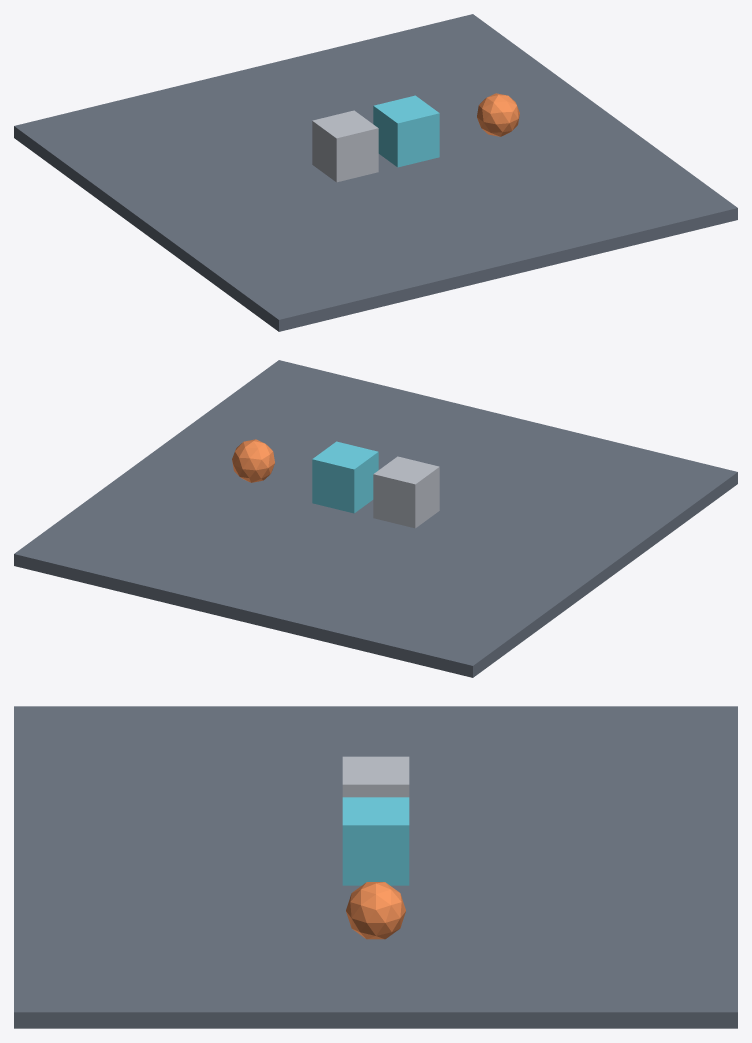
File: ConstraintGenericSpring.glb
The picture shows the model from 3 angles, top to bottom: view 1: azimuth 30°, elevation 25°; view 2: azimuth 150°, elevation 25°; view 3: azimuth 270°, elevation 25°; orthographic projection. The views are drawn at different scales.
Visible parts, largest first — view 1: Ground.001, GenericBlockA.001, GenericBlockB.001, GenericSphere.001; view 2: Ground.001, GenericBlockA.001, GenericBlockB.001, GenericSphere.001; view 3: Ground.001, GenericBlockB.001, GenericBlockA.001, GenericSphere.001.
Boxes of the visible parts, <box> form: Ground.001: <box>14,14,737,331</box>; GenericBlockA.001: <box>312,110,378,182</box>; GenericBlockB.001: <box>373,95,439,167</box>; GenericSphere.001: <box>477,93,519,136</box>; Ground.001: <box>14,360,737,677</box>; GenericBlockA.001: <box>373,456,439,528</box>; GenericBlockB.001: <box>312,441,378,513</box>; GenericSphere.001: <box>232,439,274,482</box>; Ground.001: <box>14,706,737,1028</box>; GenericBlockB.001: <box>342,797,409,885</box>; GenericBlockA.001: <box>342,756,409,797</box>; GenericSphere.001: <box>346,882,405,939</box>.
Size of the model in its own units: 12 by 1.55 by 12.
